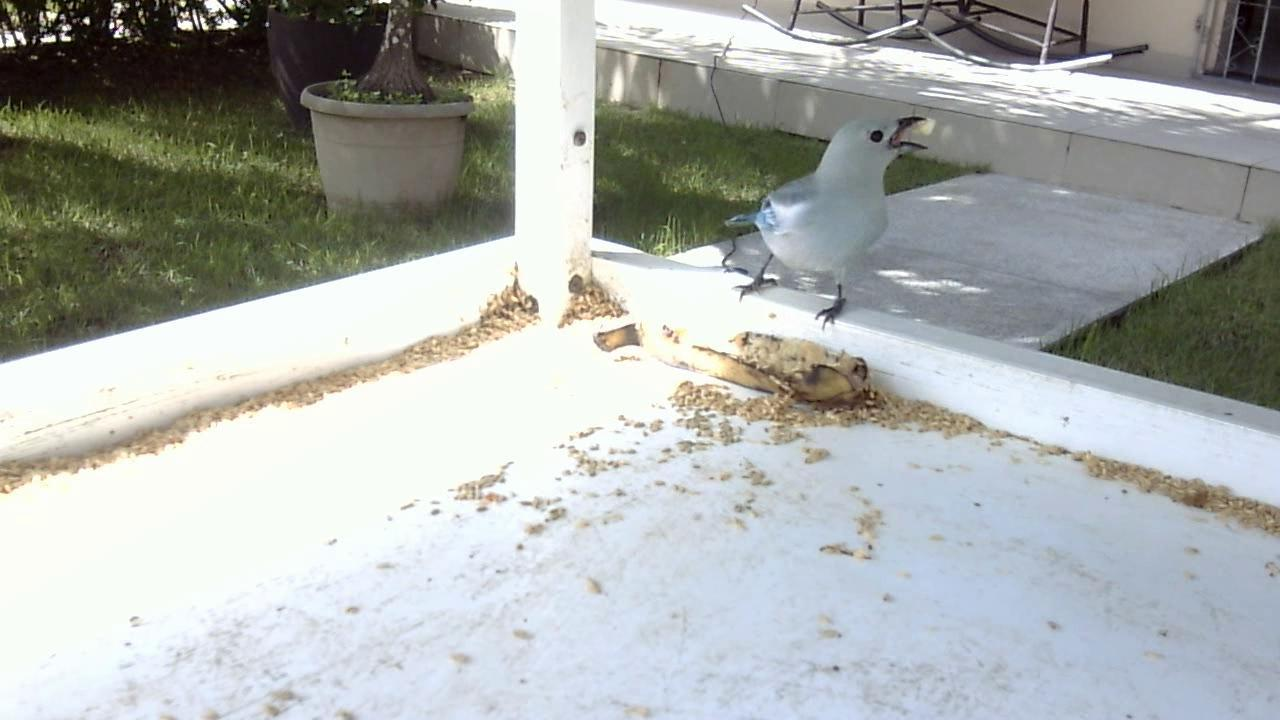sanhaco_da_amazonia: (703, 107, 937, 338)
